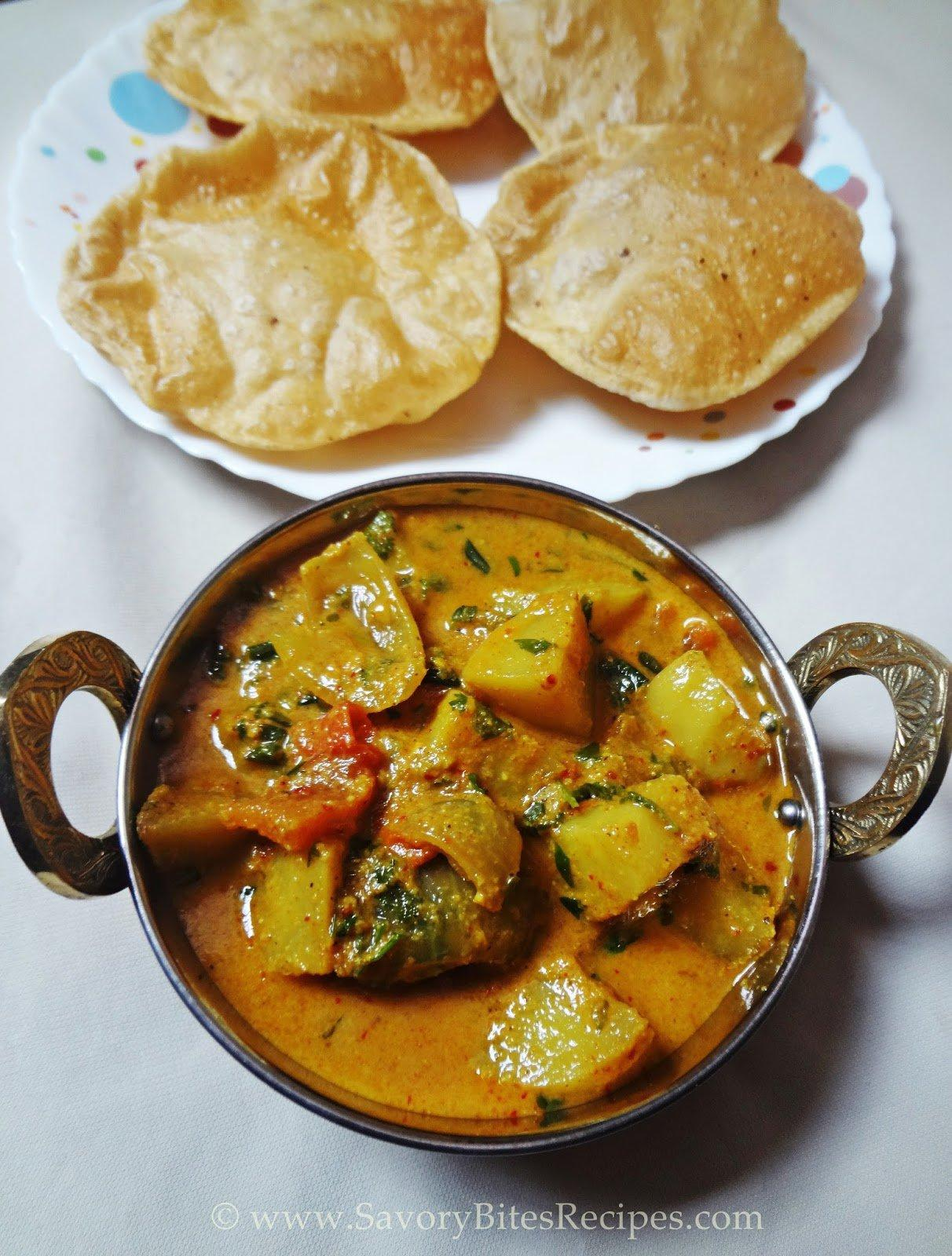Aloo Kadai: (37, 530, 952, 1135)
Poori: (24, 33, 952, 452)
